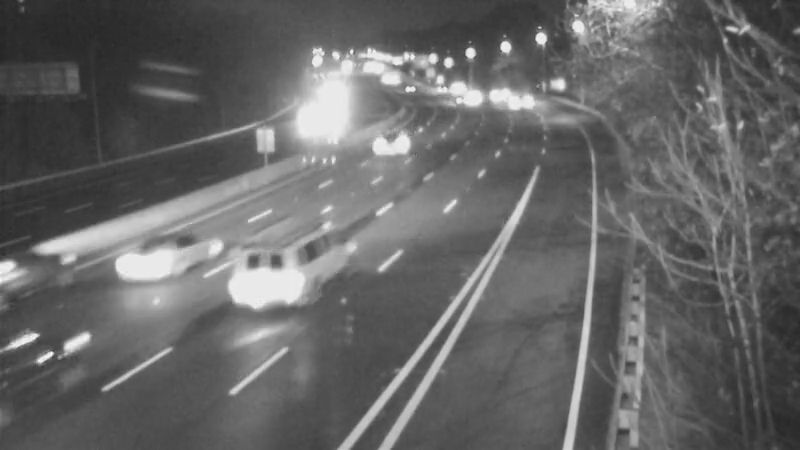vehicle: (1, 318, 92, 428), (231, 243, 311, 323), (109, 224, 189, 304), (1, 234, 65, 314), (478, 66, 528, 116), (488, 77, 538, 127), (360, 120, 410, 170), (293, 94, 343, 144)
